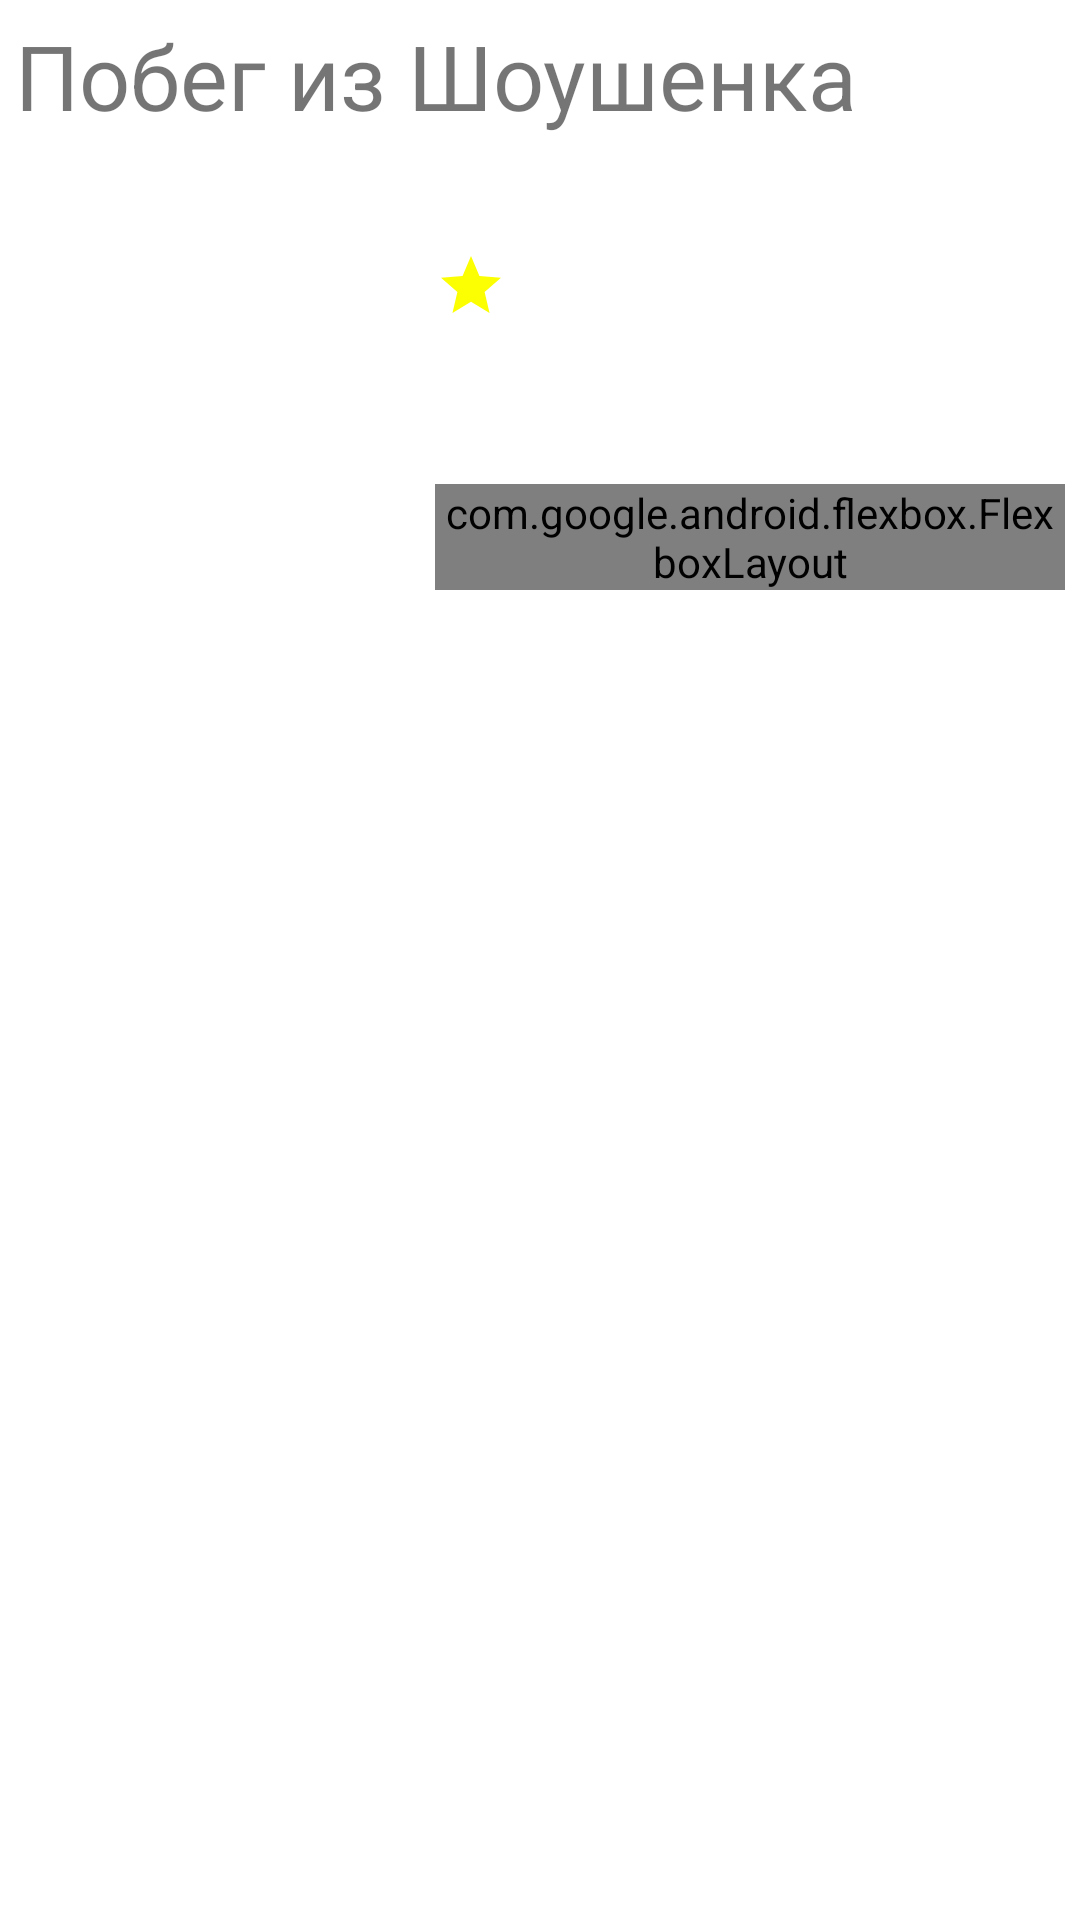

Screen size 1080×1920. Icon name, then its center in pixels as [x,y]:
star: [471,284]
